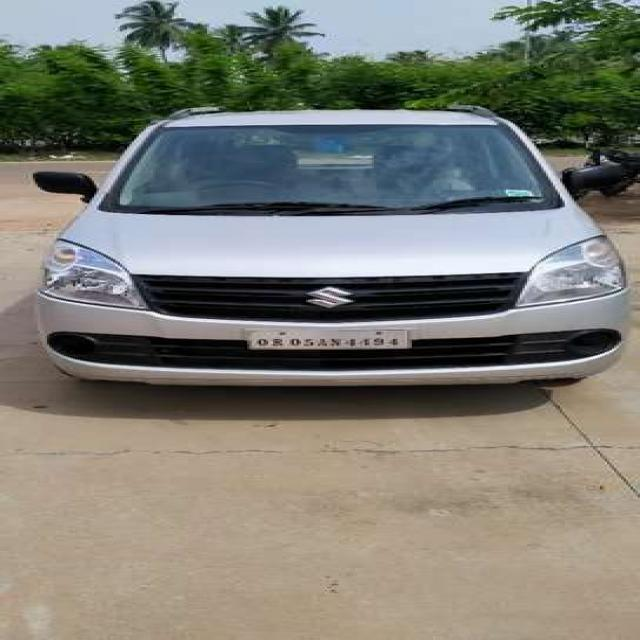Plate: (246, 329, 408, 350)
